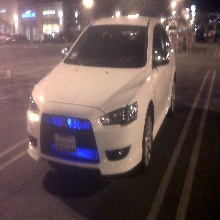no damage: (26, 19, 176, 175)
